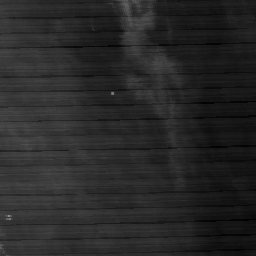Target: (109, 89, 116, 96)
